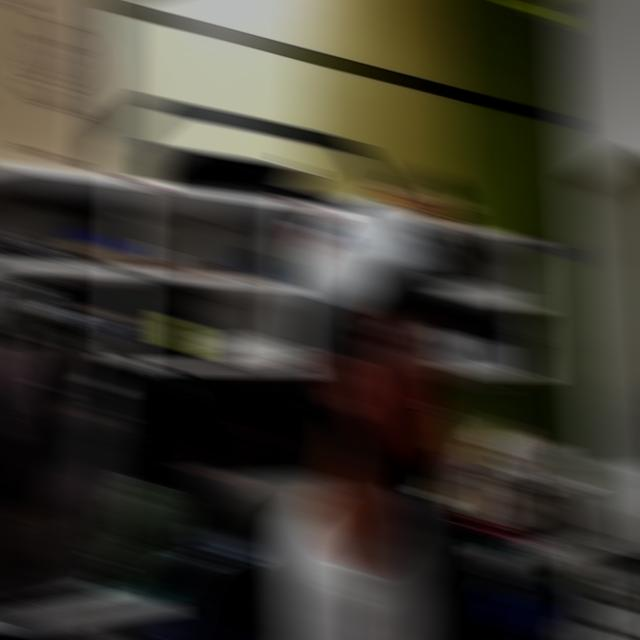With Helmet: (240, 125, 524, 560)
